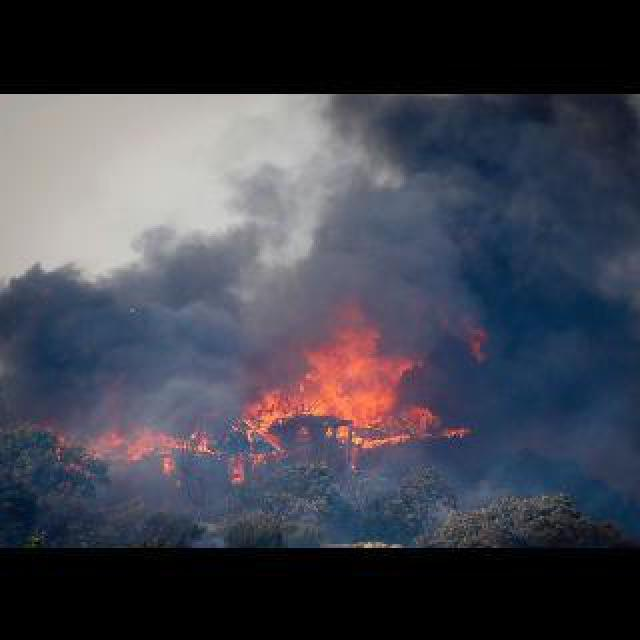fire: (234, 290, 500, 454), (68, 414, 214, 462)
smoke: (308, 96, 638, 358), (0, 178, 308, 394)
